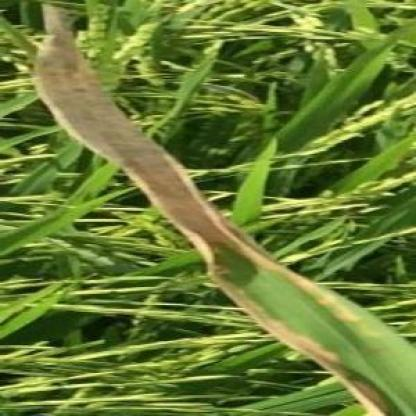Blight: (34, 26, 416, 416)
